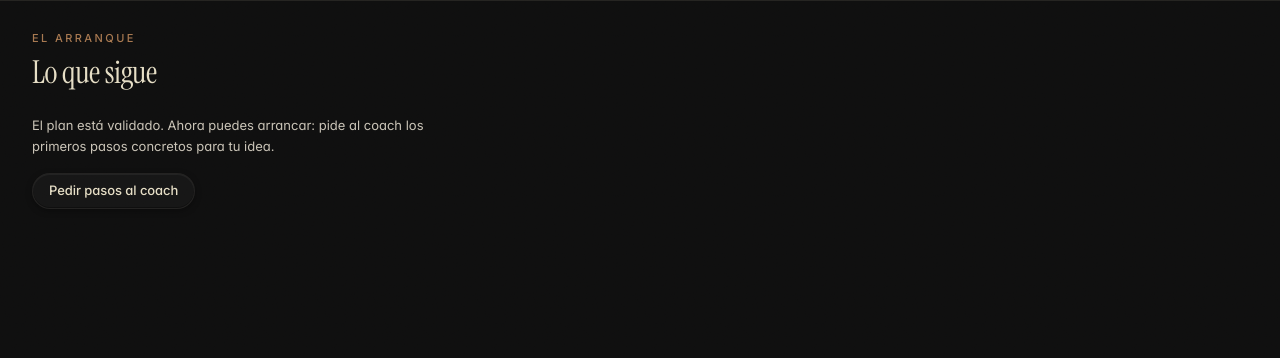
ArranqueSection — the steps the coach and the person agreed on › proposes only when asked, and stores nothing by itself
The image size is (1280, 358).
Expected: the text "El plan está validado" is shown, [32,117,424,154]
Step 1. Click the button "Pedir pasos al coach" → (114, 191), box [32,173,195,209]
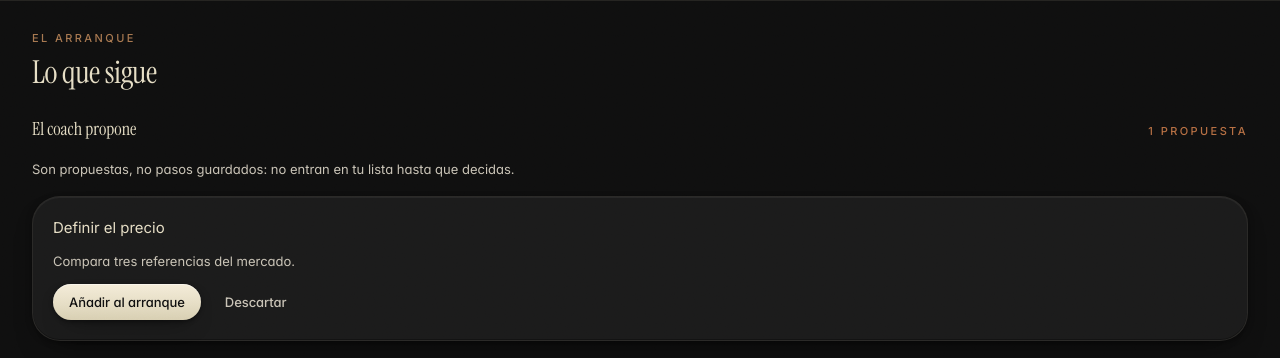
Expected: the text "Definir el precio" is shown, [53,218,165,237]
Expected: the text "Son propuestas, no pasos guardados: no entran en tu lista hasta que decidas." is shown, [32,161,515,177]
